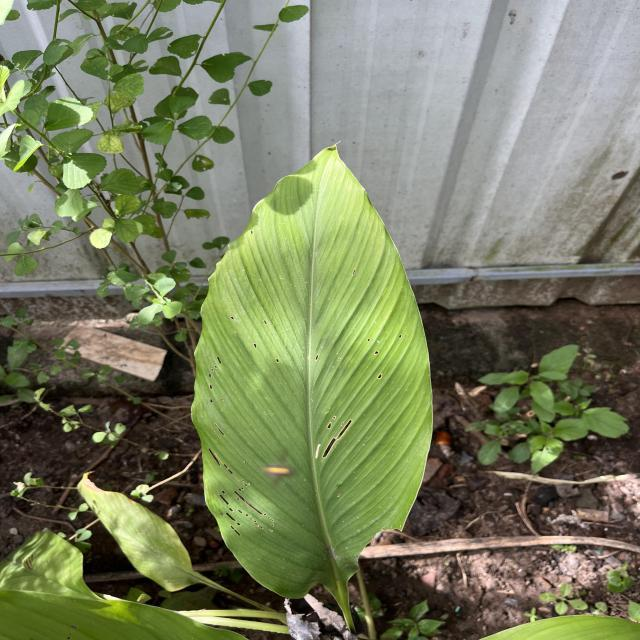Curcuma longa: (190, 140, 438, 601)
